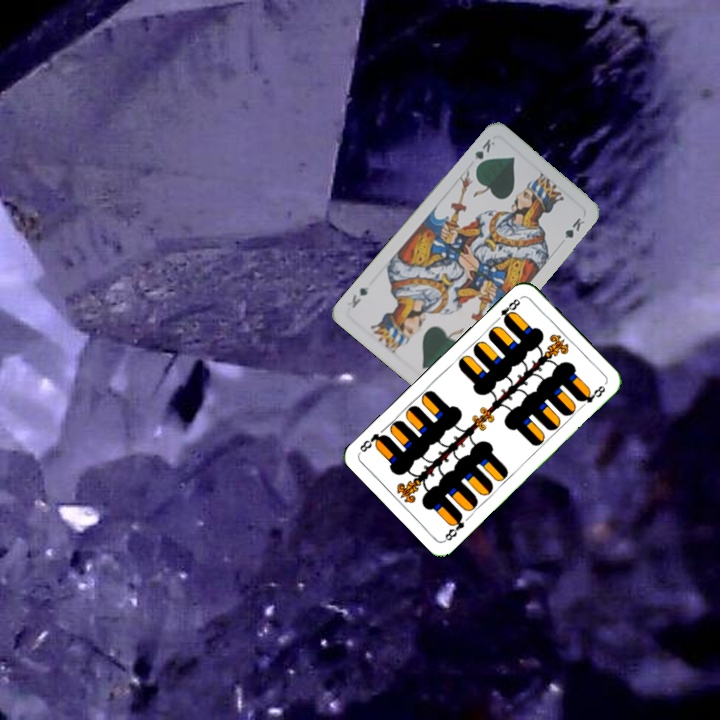E8: (491, 293, 524, 326), (441, 510, 467, 544)
GK: (470, 134, 498, 172)
